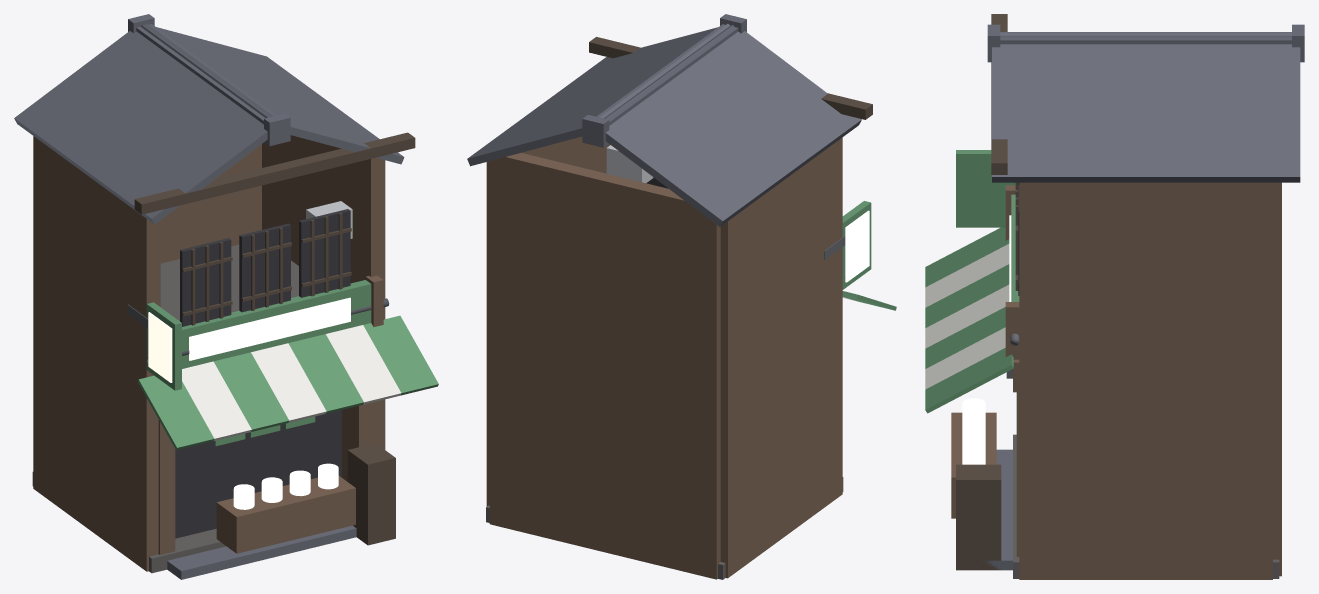
File: prop_shop_wagashi.glb
3 views of the same model, side by side, from view 1: azimuth 30°, elevation 25°; view 2: azimuth 150°, elevation 25°; view 3: azimuth 270°, elevation 25° (orthographic). The views are drawn at different scales.
Parts seen in each view (by area): view 1: shop_wagashi; view 2: shop_wagashi; view 3: shop_wagashi.
Boxes of the visible parts, x1,y1,x2,y2 form: shop_wagashi: (14,14,438,579); shop_wagashi: (467,14,896,579); shop_wagashi: (925,14,1304,579).
Bounding box in the file's own units: 3.9 × 5.9 × 4.19.
